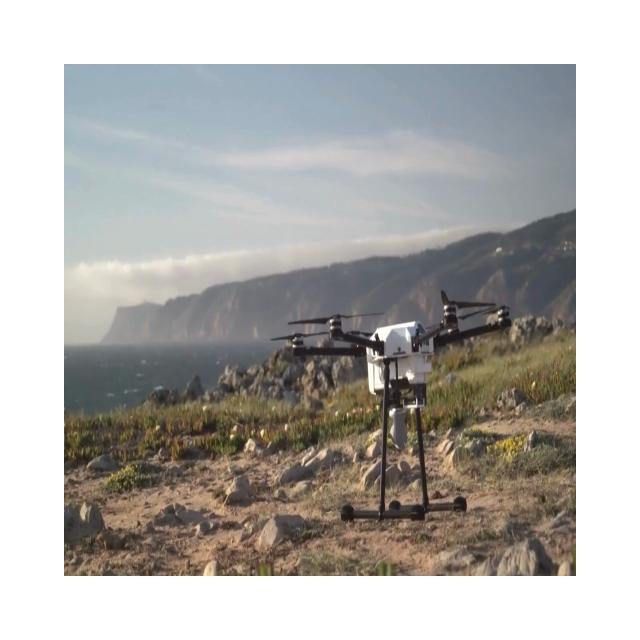drone: (269, 289, 512, 523)
